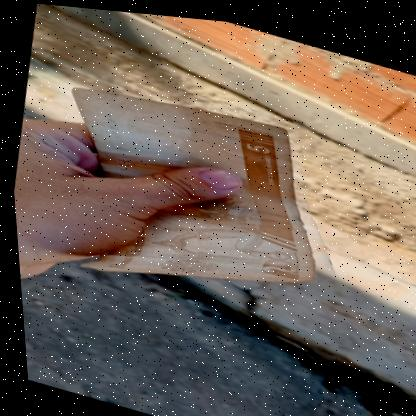vef_back: (35, 63, 340, 328)
